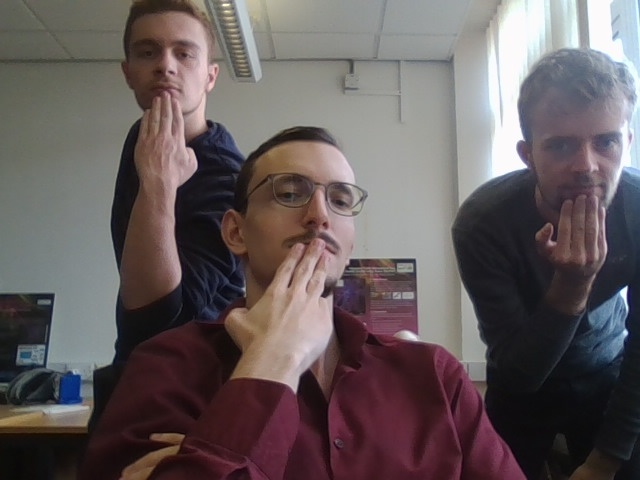livelong: (224, 237, 330, 369), (130, 89, 198, 186), (531, 193, 607, 278)
